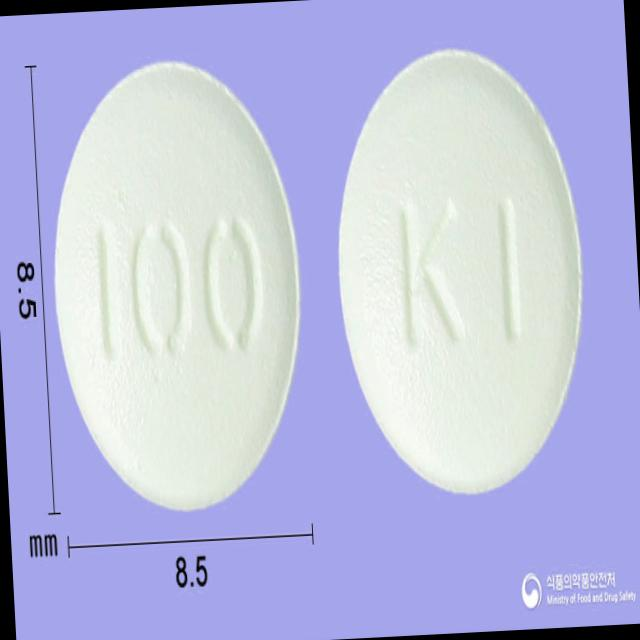Clacid: (42, 52, 312, 520), (328, 42, 594, 500)
